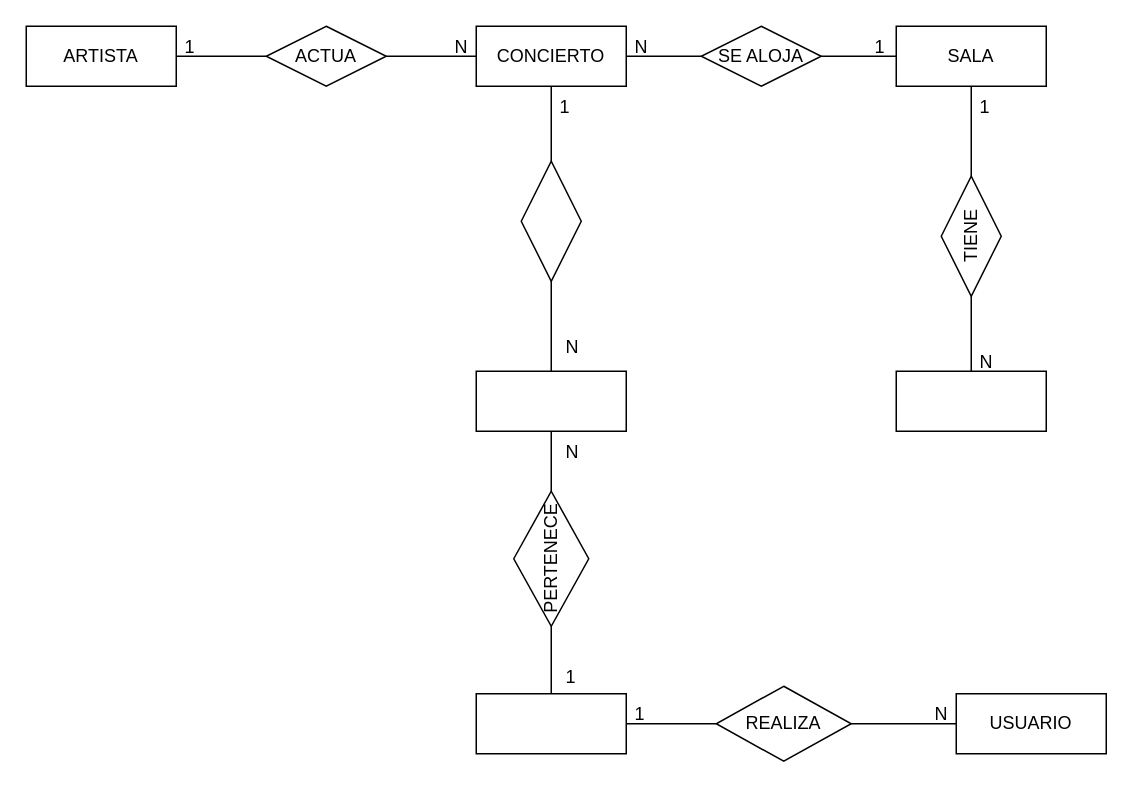
The diagram is 1133 pixels wide and 788 high, and some of its shapes have lost their labels. The shapes that lost their labels are listed below. From the top down, each one's centre as x and y in pixels, then its label:
At [550,220]: "GENERA".
At [550,400]: "ENTRADA".
At [970,400]: "ZONA_SALA".
At [550,723]: "COMPRA".
